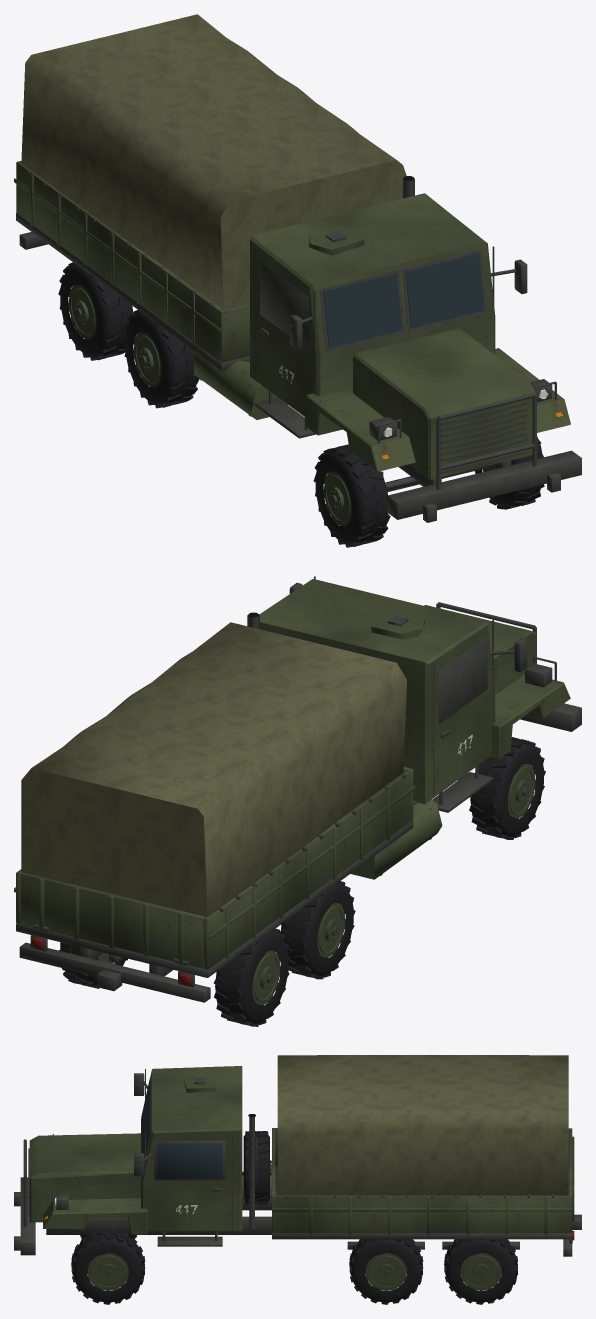
Rendered from cargo-truck-6x6_card.glb.
The picture shows the model from 3 angles, top to bottom: view 1: azimuth 30°, elevation 25°; view 2: azimuth 150°, elevation 25°; view 3: azimuth 270°, elevation 25°; orthographic projection. The views are drawn at different scales.
Parts seen in each view (by area): view 1: Truck, Wheel_FR, Wheel_MR, Wheel_BR, Wheel_FL; view 2: Truck, Wheel_FR, Wheel_BR, Wheel_MR, Wheel_BL; view 3: Truck, Wheel_FL, Wheel_ML, Wheel_BL.
Part boxes in pixels (bbox=[...]): Truck: bbox=[14, 14, 581, 522]; Wheel_FR: bbox=[313, 444, 390, 547]; Wheel_MR: bbox=[123, 310, 199, 408]; Wheel_BR: bbox=[58, 262, 133, 360]; Wheel_FL: bbox=[474, 436, 544, 509]; Truck: bbox=[14, 576, 581, 1002]; Wheel_FR: bbox=[469, 737, 545, 839]; Wheel_BR: bbox=[213, 928, 290, 1026]; Wheel_MR: bbox=[280, 881, 355, 979]; Wheel_BL: bbox=[59, 942, 127, 988]; Truck: bbox=[14, 1055, 581, 1256]; Wheel_FL: bbox=[71, 1229, 145, 1304]; Wheel_ML: bbox=[349, 1239, 423, 1304]; Wheel_BL: bbox=[444, 1239, 517, 1304].
Bounding box in the file's own units: 3.02 × 3.22 × 8.68.
10 materials, 5 textured.
